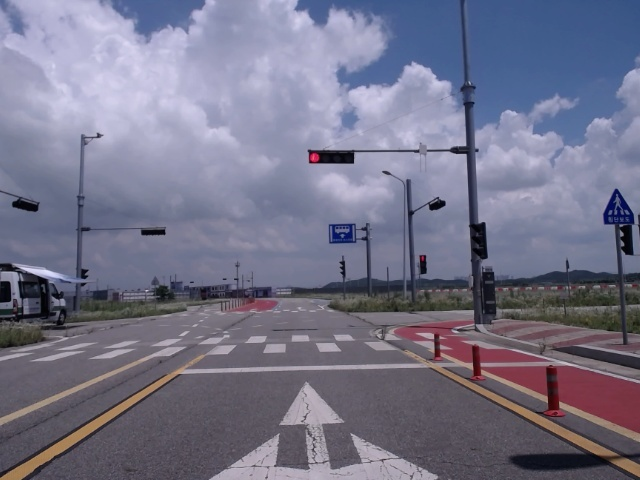red_4: (309, 151, 354, 164)
